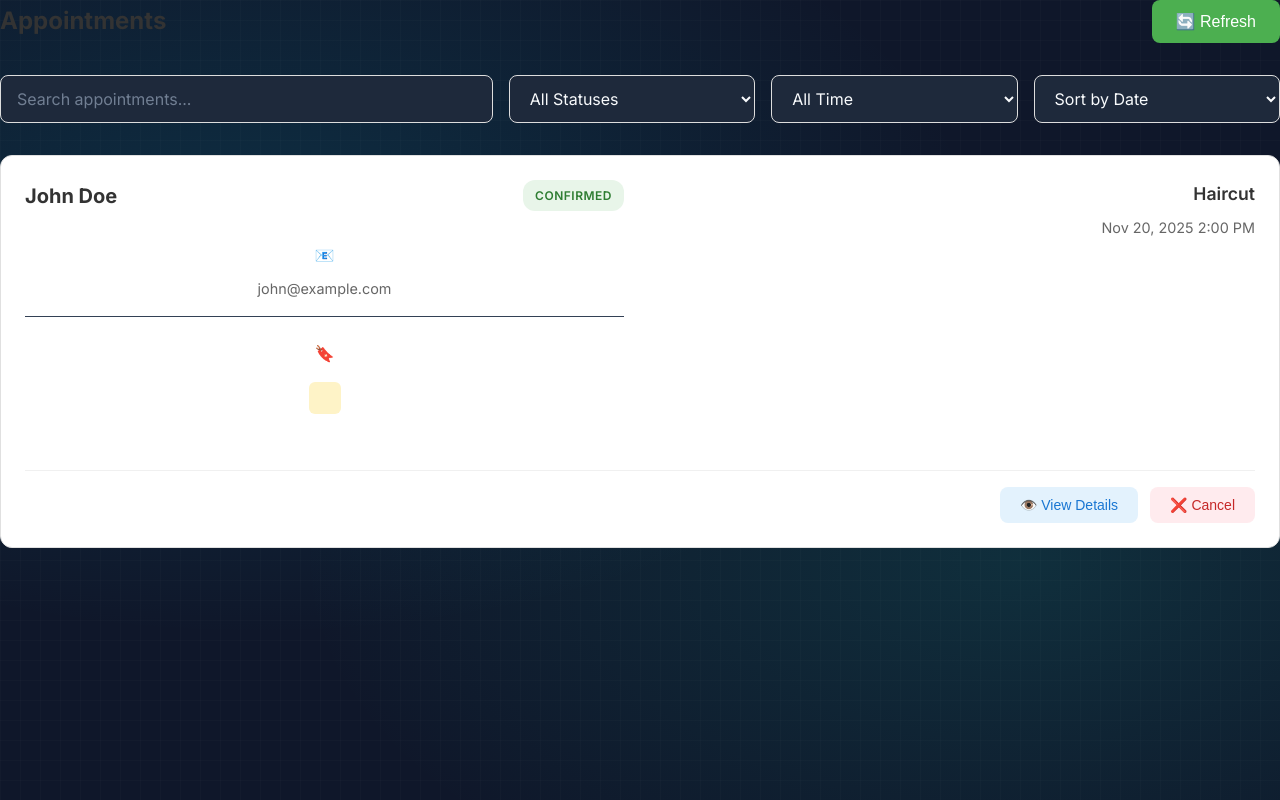
Test case: AppointmentList Component - TDD › Appointment Actions › should open details modal when view button clicked
Click the button "👁️ View Details": (1069, 505) [1000, 487, 1138, 523]
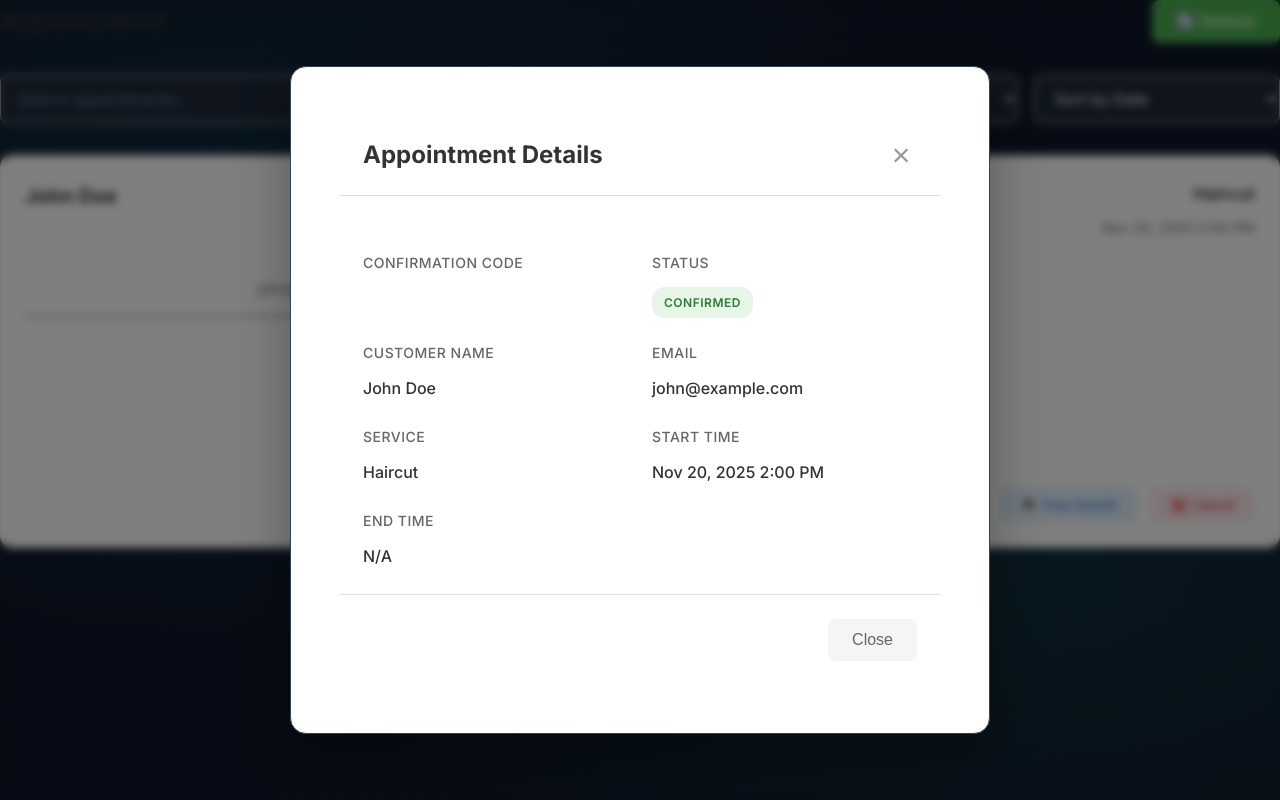
Check: the dialog is shown, box [290, 66, 990, 734]
Check: the heading "Appointment Details" is shown, box [363, 141, 603, 170]
